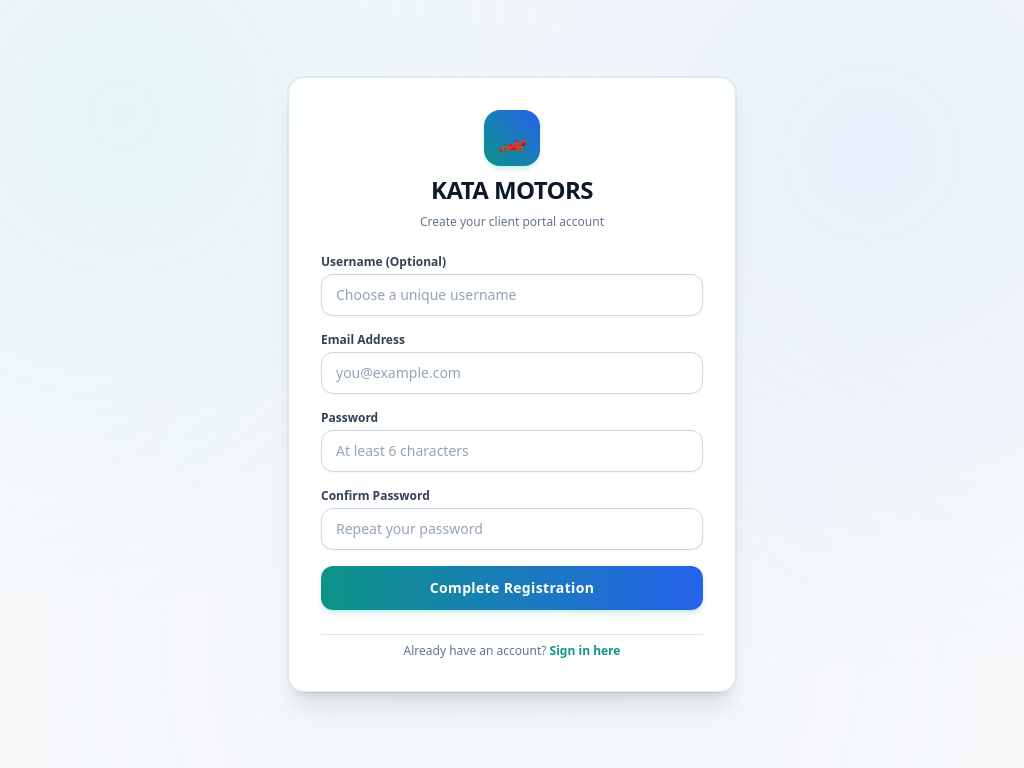
Test: RegisterForm › shows error if passwords do not match
Type "user@test.com" into the field with placeholder "you@example.com" at (512,372), box [321,352,703,394]
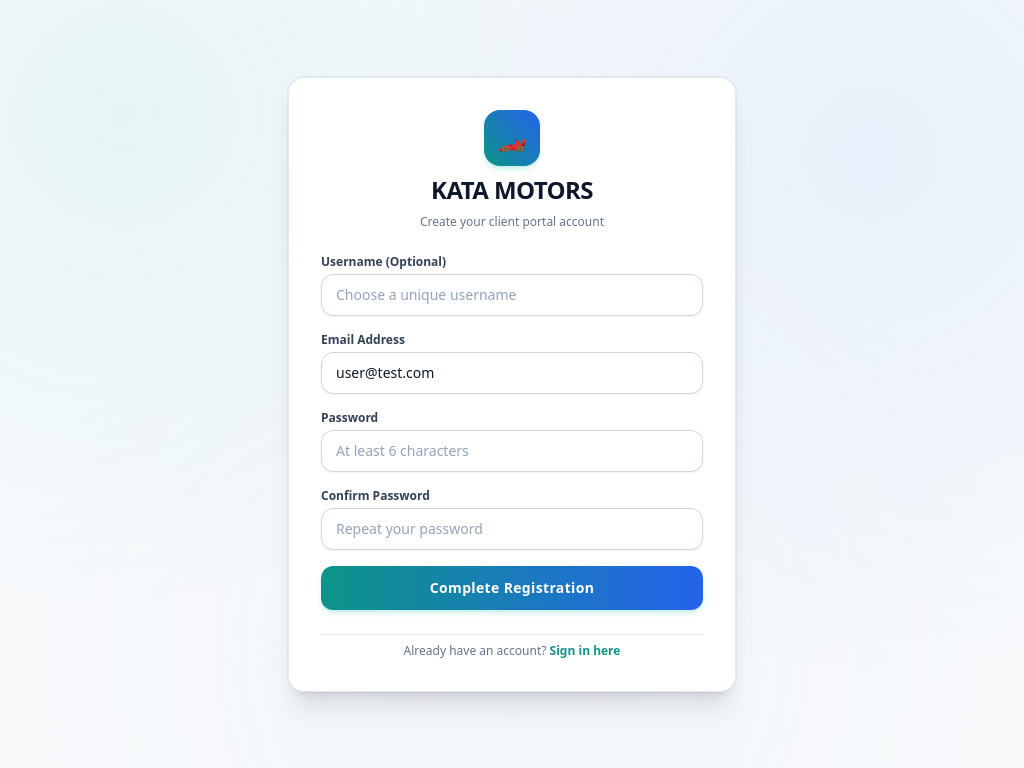
Type "password123" into the password field with placeholder "At least 6 characters" at (512,450), box [321,430,703,472]
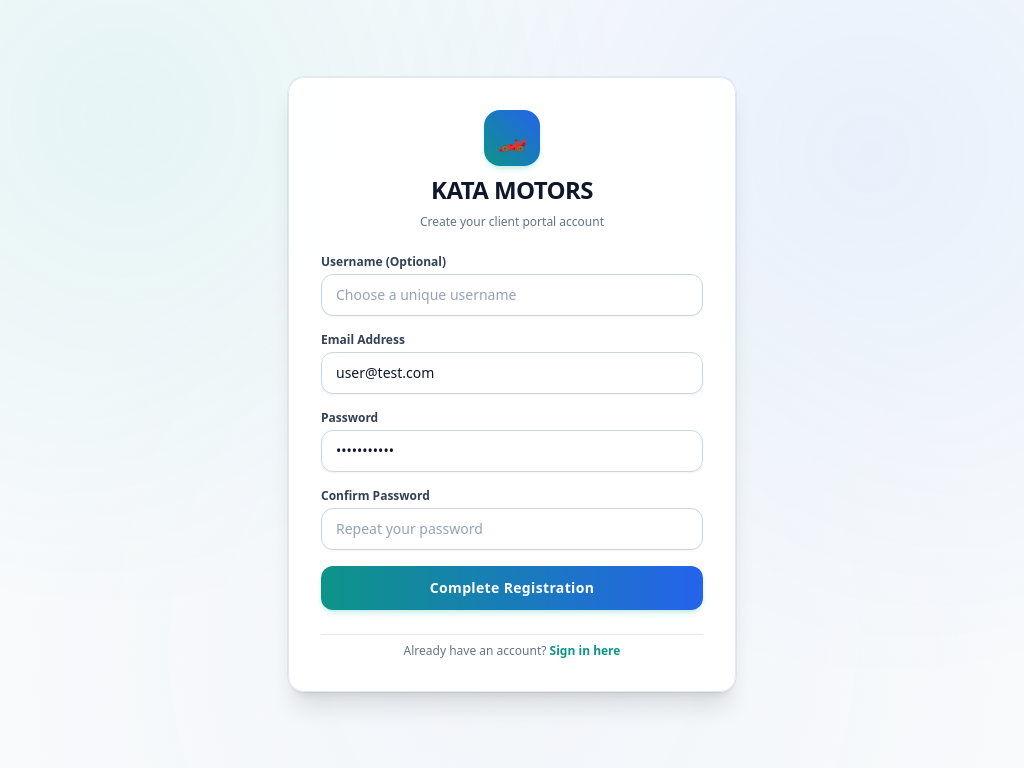
Type "mismatch123" into the password field with placeholder "Repeat your password" at (512,528), box [321,508,703,550]
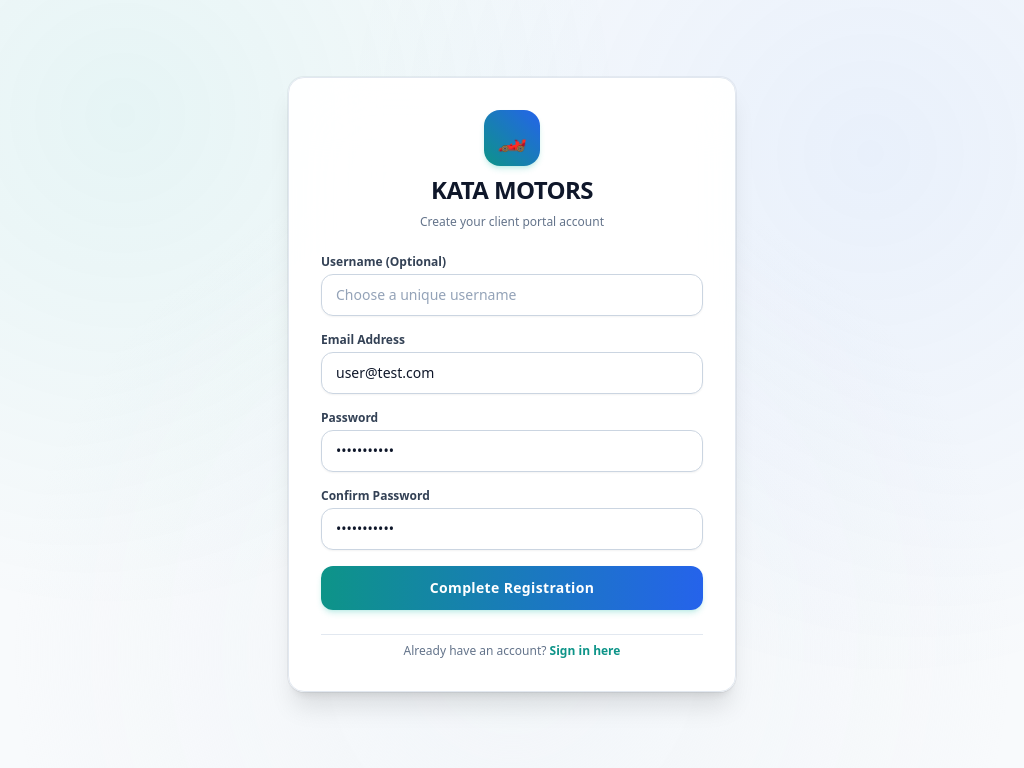
Click the button "Complete Registration" at (512,588), box [321,566,703,610]
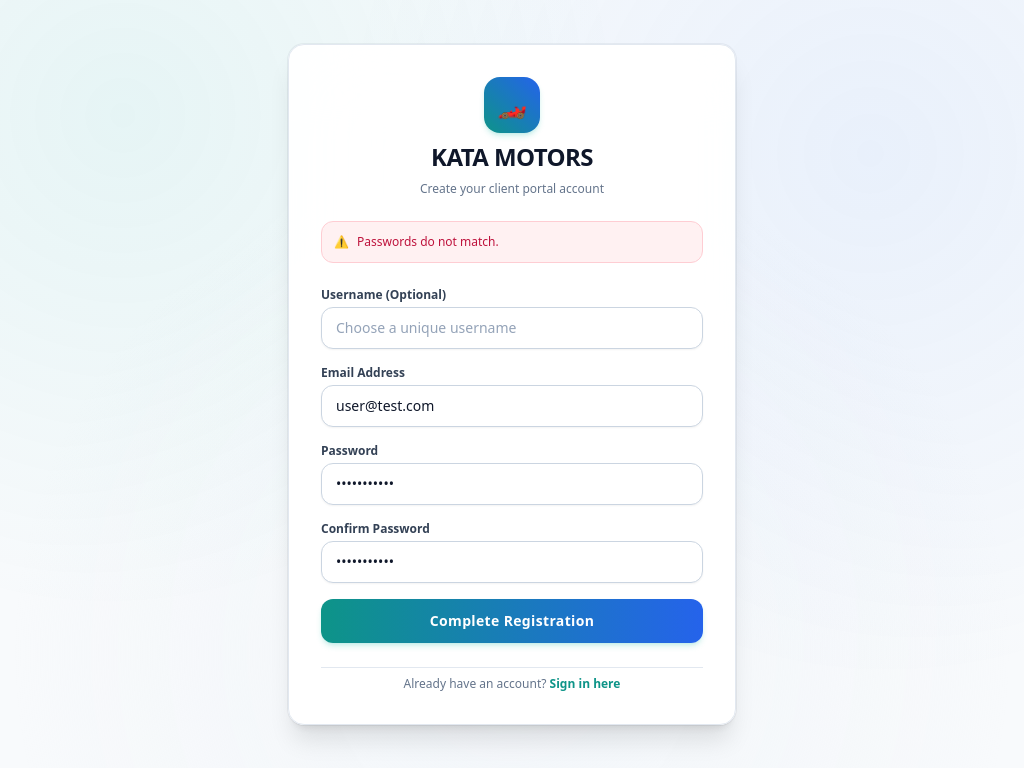
Expected: the text "⚠️ Passwords do not match." is shown, [321,220,703,262]
